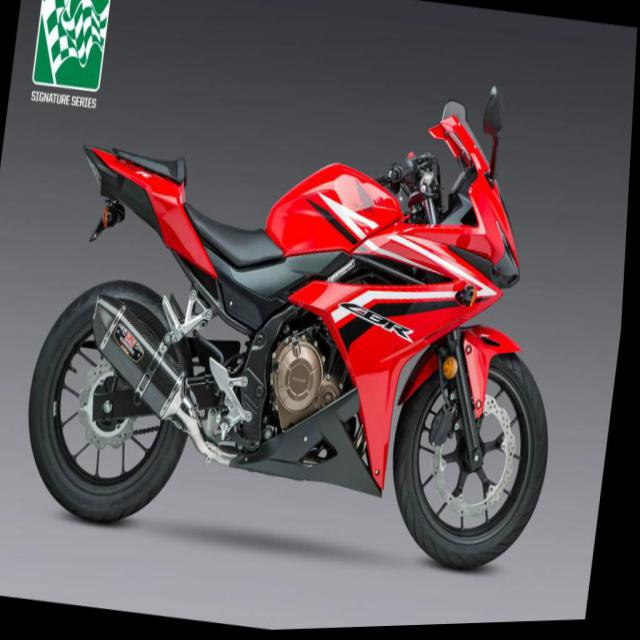CBR500R: (19, 17, 598, 601)
